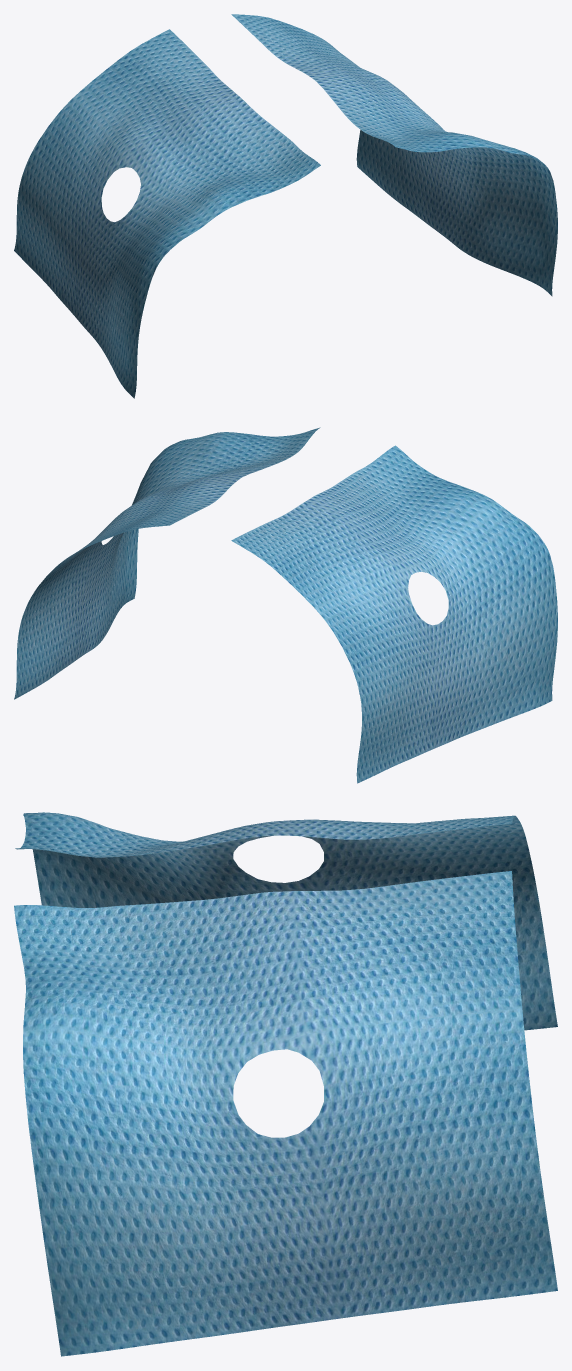
Rendered from 骨穿铺巾.FBX.
The picture shows the model from 3 angles, top to bottom: view 1: azimuth 30°, elevation 25°; view 2: azimuth 150°, elevation 25°; view 3: azimuth 270°, elevation 25°; orthographic projection. The views are drawn at different scales.
Parts seen in each view (by area): view 1: Sterile_hole_towel005, Sterile_hole_towel004; view 2: Sterile_hole_towel005, Sterile_hole_towel004; view 3: Sterile_hole_towel004, Sterile_hole_towel005.
Part boxes in pixels (bbox=[...]): Sterile_hole_towel005: bbox=[14, 29, 320, 398]; Sterile_hole_towel004: bbox=[231, 14, 557, 296]; Sterile_hole_towel005: bbox=[231, 445, 557, 783]; Sterile_hole_towel004: bbox=[14, 427, 320, 699]; Sterile_hole_towel004: bbox=[14, 871, 557, 1356]; Sterile_hole_towel005: bbox=[15, 812, 557, 1030].
Bounding box in the file's own units: 38.13 × 19.23 × 27.19.
Materials: 1 (1 with a texture image).
